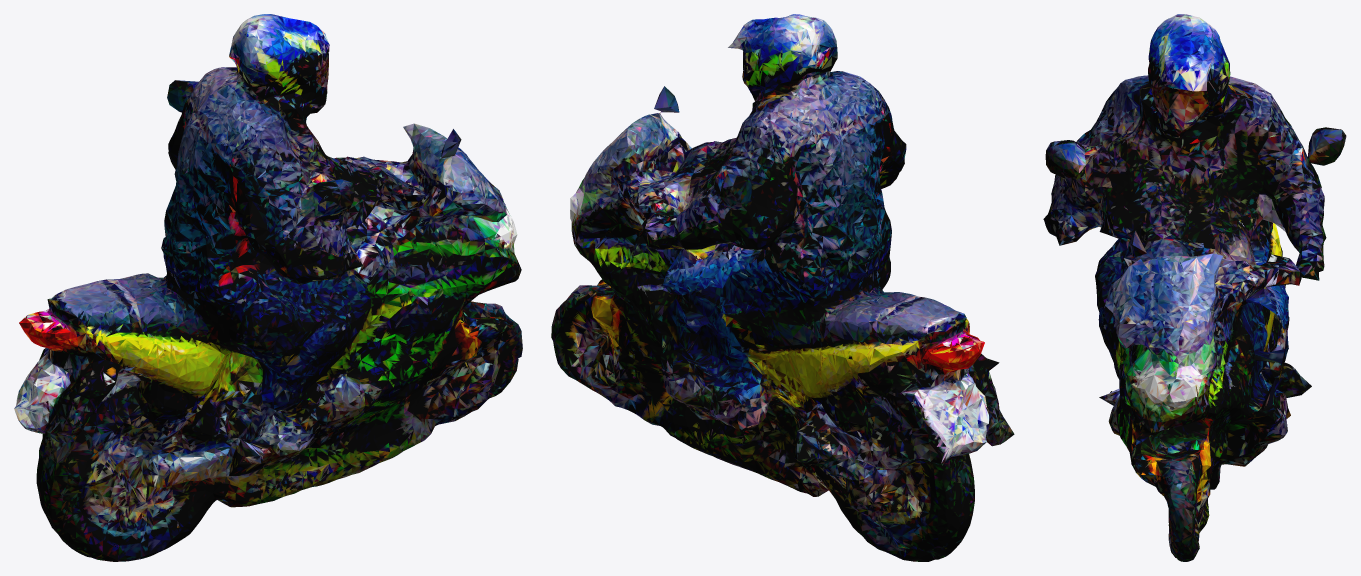
Rendered from rider-normal.glb.
3 views of the same model, side by side, from view 1: azimuth 30°, elevation 25°; view 2: azimuth 150°, elevation 25°; view 3: azimuth 270°, elevation 25° (orthographic). The views are drawn at different scales.
Visible parts, largest first — view 1: extracted_mesh; view 2: extracted_mesh; view 3: extracted_mesh.
Boxes of the visible parts, <box> form: extracted_mesh: <box>14,14,522,561</box>; extracted_mesh: <box>551,14,1014,561</box>; extracted_mesh: <box>1043,14,1346,561</box>.
Bounding box in the file's own units: 0.9328 × 0.9782 × 0.5168.
Materials: 1 (1 with a texture image).
